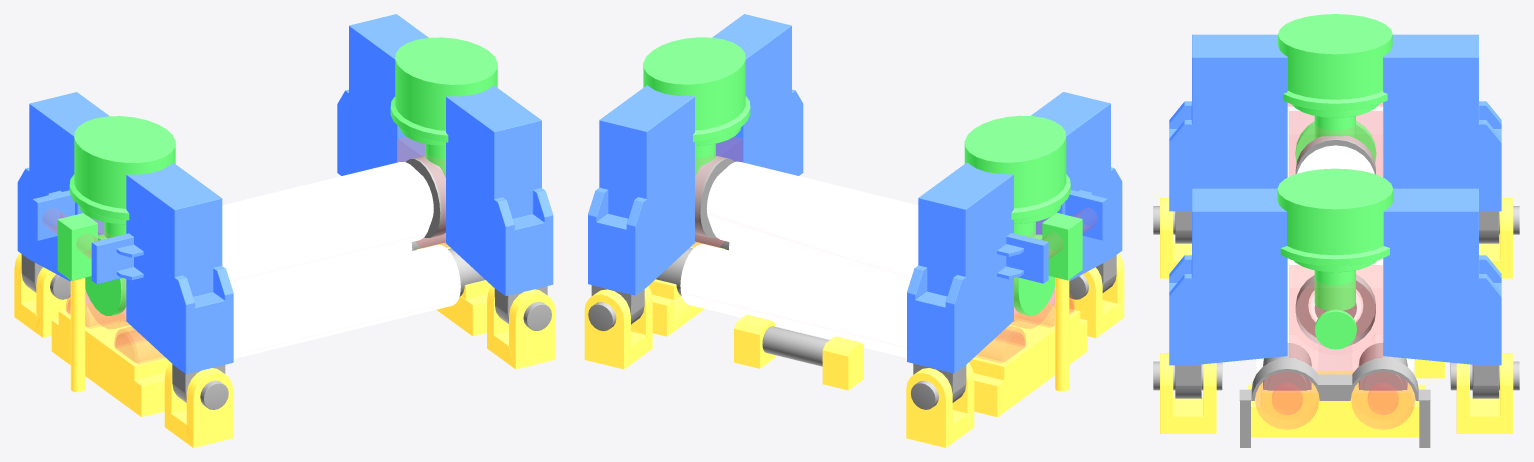
The model's file is jyj.FBX.
3 views of the same model, side by side, from view 1: azimuth 30°, elevation 25°; view 2: azimuth 150°, elevation 25°; view 3: azimuth 270°, elevation 25° (orthographic).
Parts seen in each view (by area): view 1: Box56, Box39, Cylinder38, Cylinder67, Cylinder69, Cylinder66, Cylinder39, Box42, Cylinder47, Cylinder68, Box43, Box41 (+12 smaller); view 2: Box56, Box39, Cylinder38, Cylinder67, Cylinder68, Cylinder66, Cylinder39, Box42, Cylinder72, Cylinder47, Cylinder69, Box41 (+13 smaller); view 3: Box56, Box39, Cylinder38, Cylinder66, Cylinder39, Cylinder60, Cylinder109, Cylinder107, Cylinder111, Cylinder42, Cylinder67, Cylinder71 (+23 smaller).
Part boxes in pixels (x1,y1,x2,y2): Box56: (337,14,553,295); Box39: (17,92,233,374); Cylinder38: (14,176,555,447); Cylinder67: (222,161,433,285); Cylinder69: (233,245,460,358); Cylinder66: (390,37,497,142); Cylinder39: (69,116,175,220); Box42: (57,213,97,280); Cylinder47: (70,278,85,392); Cylinder68: (122,242,412,315); Box43: (91,233,133,284); Box41: (32,190,74,240); Box56: (588,14,803,295); Box39: (907,92,1122,373); Cylinder38: (584,241,1124,447); Cylinder67: (706,161,918,285); Cylinder68: (680,244,906,357); Cylinder66: (643,37,750,142); Cylinder39: (964,115,1070,219); Box42: (1042,213,1082,280); Cylinder72: (762,326,829,366); Cylinder47: (1055,277,1069,391); Cylinder69: (729,242,1017,314); Box41: (1006,233,1048,283); Box56: (1169,188,1501,365); Box39: (1169,34,1501,211); Cylinder38: (1160,198,1513,437); Cylinder66: (1277,168,1393,266); Cylinder39: (1278,14,1392,110); Cylinder60: (1289,265,1382,373); Cylinder109: (1239,358,1430,400); Cylinder107: (1351,372,1414,429); Cylinder111: (1255,372,1318,429); Cylinder42: (1289,111,1382,176); Cylinder67: (1296,145,1375,322); Cylinder71: (1295,274,1375,346).
Size of the model in its own units: 28.52 by 14.99 by 21.16.
